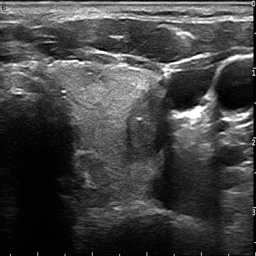mass: (128, 95, 168, 160)
